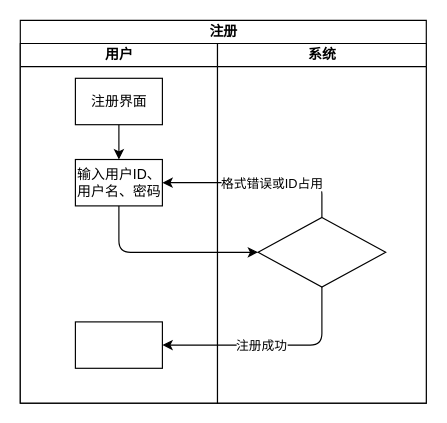
Some shapes in this 447 by 423 pixel diagram are drawn without their labels. Here are the shapes that lost their labels. From the top down, the centre of each, then its label:
[321,251]: 判断格式及用户ID占用情况
[118,344]: 跳转至登陆页面
